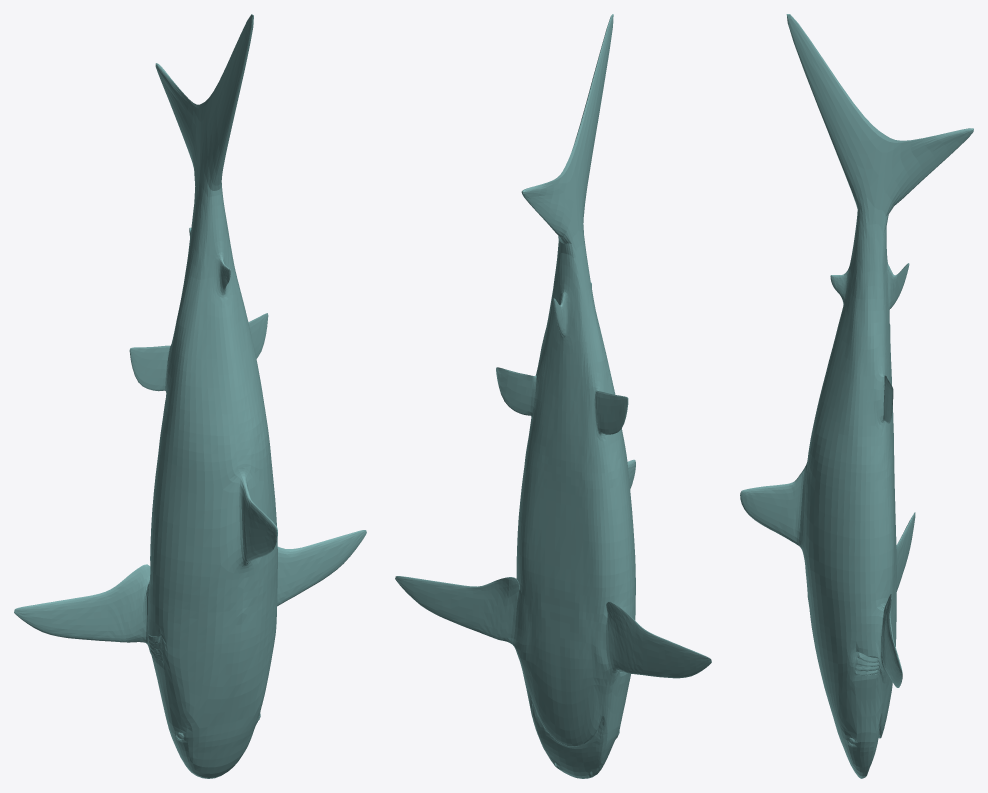
Rendered from shark.obj.
3 views of the same model, side by side, from view 1: azimuth 30°, elevation 25°; view 2: azimuth 150°, elevation 25°; view 3: azimuth 270°, elevation 25° (orthographic). The views are drawn at different scales.
Parts seen in each view (by area): view 1: Null-Objek; view 2: Null-Objek; view 3: Null-Objek.
Part boxes in pixels (x1,y1,x2,y2): Null-Objek: [14, 14, 366, 778]; Null-Objek: [395, 14, 711, 778]; Null-Objek: [740, 14, 973, 778].
Bounding box in the file's own units: 263 × 574 × 160.
